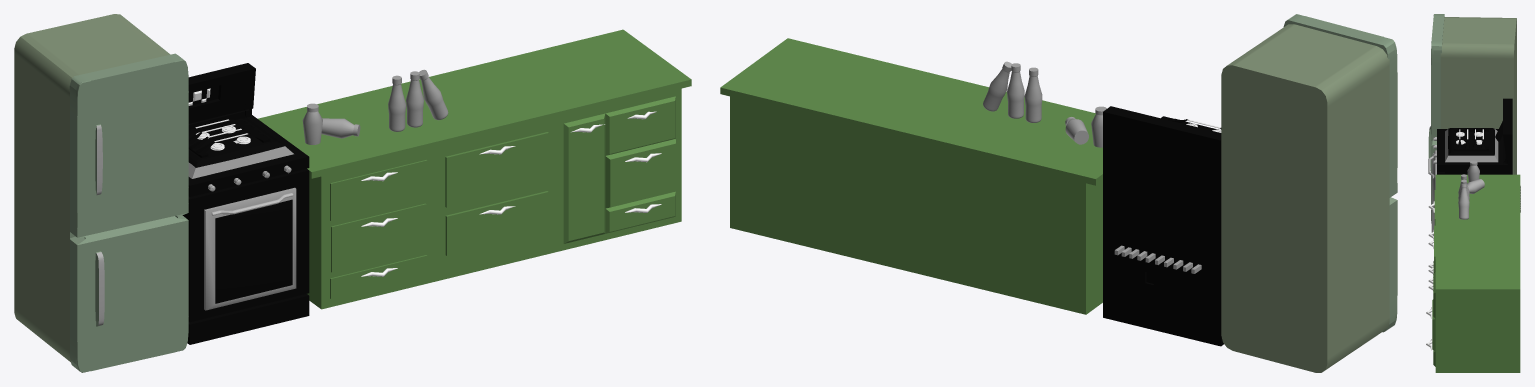
The model's file is gabungan properti.fbx.
The picture shows the model from 3 angles, left to right: view 1: azimuth 30°, elevation 25°; view 2: azimuth 150°, elevation 25°; view 3: azimuth 270°, elevation 25°; orthographic projection. The views are drawn at different scales.
Visible parts, largest first — view 1: polySurface26, kulkas:badan_kulkas1, microwave:kompor2, pCylinder13, pCylinder14, pCylinder15, pCylinder11, pCylinder12; view 2: polySurface26, kulkas:badan_kulkas1, microwave:kompor2, pCylinder13, pCylinder14, pCylinder15; view 3: polySurface26, kulkas:badan_kulkas1, microwave:kompor2, pCylinder15, pCylinder11, pCylinder12.
Boxes of the visible parts, box(x1,y1,x2,y2) form: polySurface26: box(258, 29, 691, 309); kulkas:badan_kulkas1: box(14, 14, 188, 372); microwave:kompor2: box(182, 63, 309, 344); pCylinder13: box(388, 75, 405, 131); pCylinder14: box(406, 71, 423, 127); pCylinder15: box(419, 69, 448, 120); pCylinder11: box(302, 103, 322, 144); pCylinder12: box(321, 118, 360, 138); polySurface26: box(720, 38, 1102, 314); kulkas:badan_kulkas1: box(1221, 14, 1397, 372); microwave:kompor2: box(1103, 106, 1223, 346); pCylinder13: box(1024, 67, 1042, 122); pCylinder14: box(1007, 63, 1024, 118); pCylinder15: box(983, 61, 1011, 111); polySurface26: box(1432, 174, 1520, 372); kulkas:badan_kulkas1: box(1428, 14, 1516, 223); microwave:kompor2: box(1428, 98, 1520, 235); pCylinder15: box(1458, 184, 1469, 219); pCylinder11: box(1467, 160, 1479, 182); pCylinder12: box(1467, 179, 1484, 193).
Bounding box in the file's own units: 12.03 × 5.44 × 2.59.
